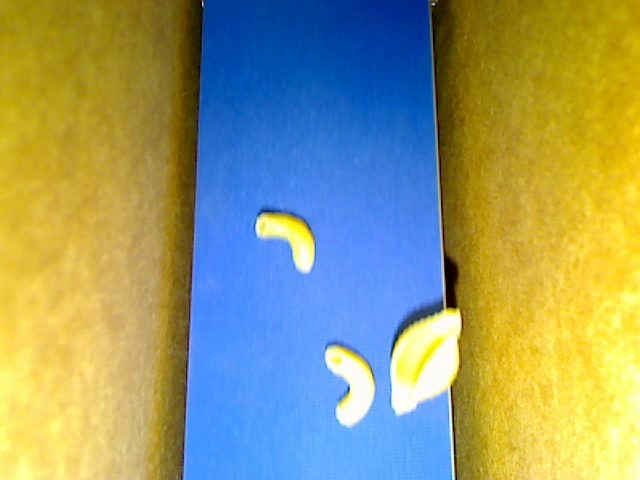elbow: (323, 343, 376, 427), (254, 212, 314, 272)
shell: (391, 307, 461, 416)
